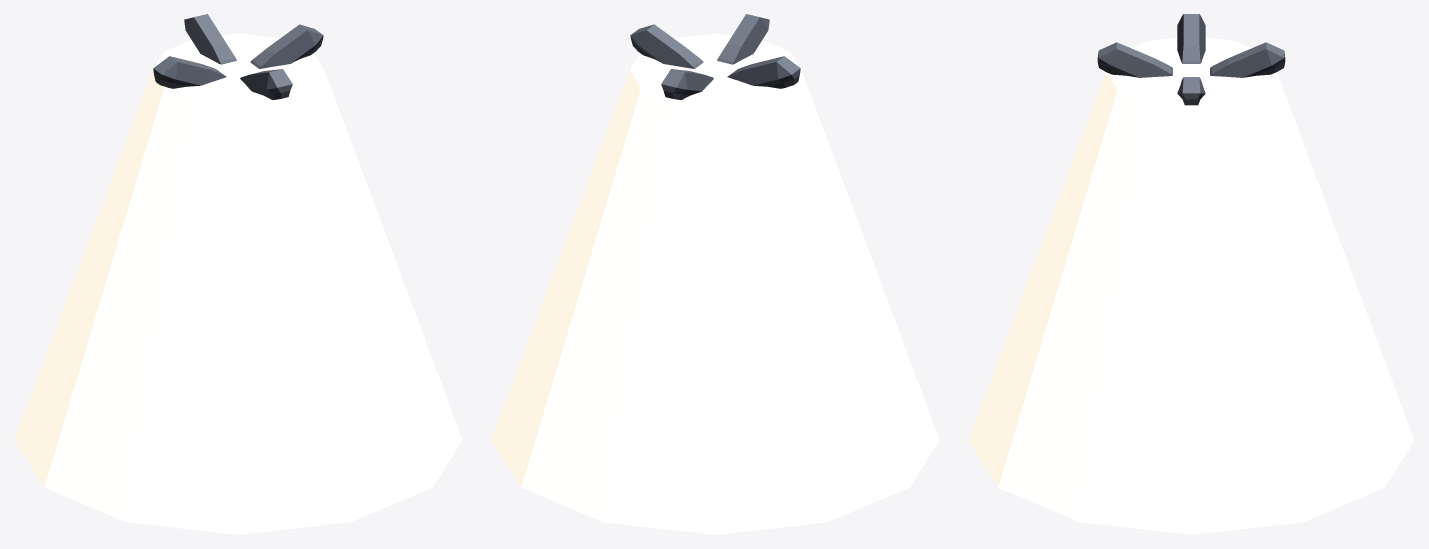
The model's file is Lamp.glb.
The picture shows the model from 3 angles, left to right: view 1: azimuth 30°, elevation 25°; view 2: azimuth 150°, elevation 25°; view 3: azimuth 270°, elevation 25°; orthographic projection.
Parts seen in each view (by area): view 1: Beam_Glow, Body; view 2: Beam_Glow, Body; view 3: Beam_Glow, Body.
Boxes of the visible parts, left/top/right/bottom form: Beam_Glow: left=14, top=33, right=462, bottom=534; Body: left=153, top=14, right=323, bottom=99; Beam_Glow: left=491, top=33, right=939, bottom=534; Body: left=630, top=14, right=800, bottom=99; Beam_Glow: left=968, top=37, right=1414, bottom=534; Body: left=1097, top=14, right=1285, bottom=105.
Size of the model in its own units: 6.8 by 6.89 by 6.8.
